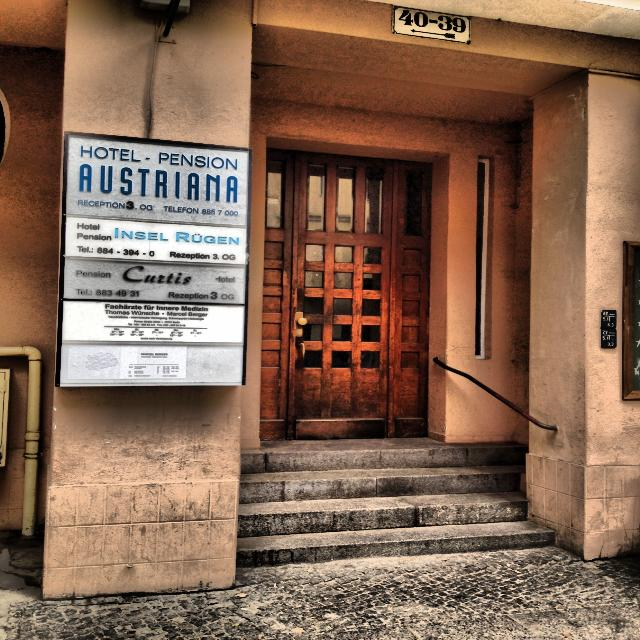escada: (220, 449, 557, 564)
